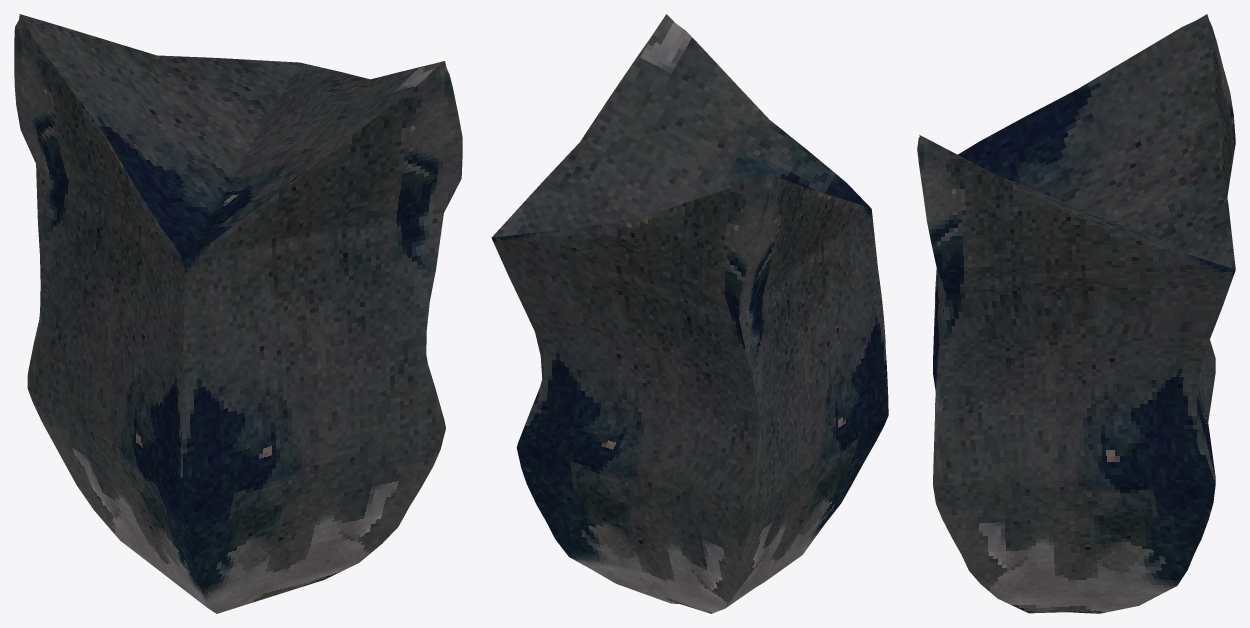
The picture shows the model from 3 angles, left to right: view 1: azimuth 30°, elevation 25°; view 2: azimuth 150°, elevation 25°; view 3: azimuth 270°, elevation 25°; orthographic projection. The views are drawn at different scales.
Visible parts, largest first — view 1: SPLICE_1; view 2: SPLICE_1; view 3: SPLICE_1.
Boxes of the visible parts, <box> form: SPLICE_1: <box>14,14,462,613</box>; SPLICE_1: <box>491,14,888,613</box>; SPLICE_1: <box>917,14,1235,613</box>.
Bounding box in the file's own units: 1.06 × 1.93 × 1.06.
1 material, 1 textured.
